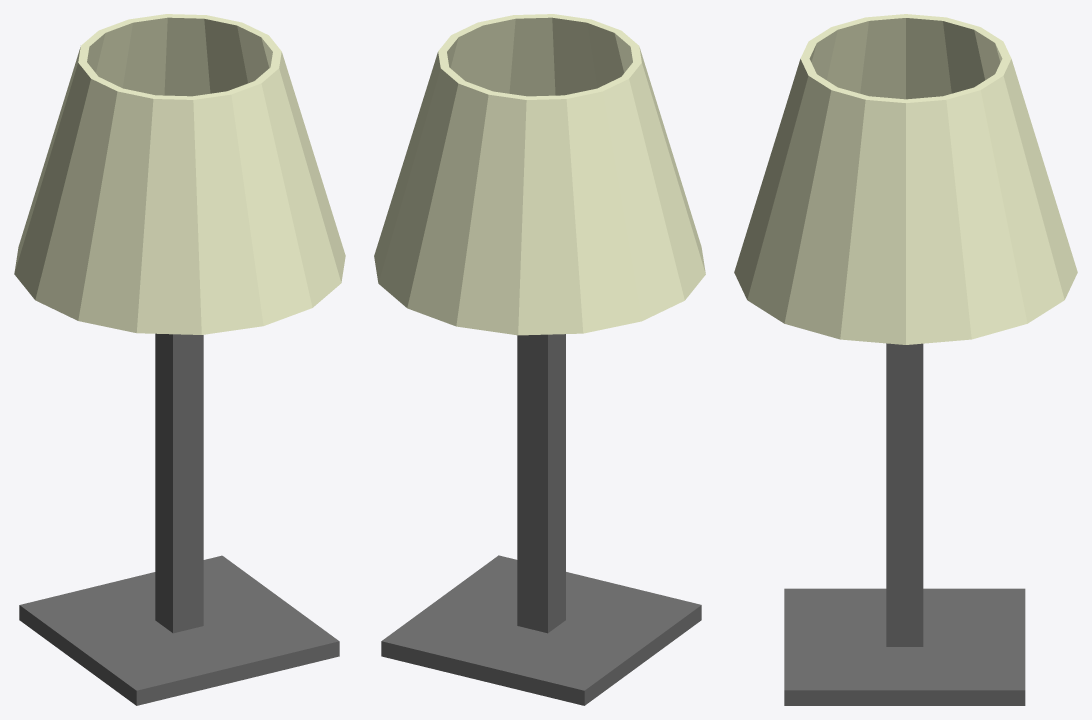
Rendered from Lampara_peq.fbx.
The picture shows the model from 3 angles, left to right: view 1: azimuth 30°, elevation 25°; view 2: azimuth 150°, elevation 25°; view 3: azimuth 270°, elevation 25°; orthographic projection. The views are drawn at different scales.
Visible parts, largest first — view 1: Lampara, Cube.003; view 2: Lampara, Cube.003; view 3: Lampara, Cube.003.
Boxes of the visible parts, x1=… form: Lampara: x1=14, y1=14, x2=345, y2=334; Cube.003: x1=19, y1=333, x2=339, y2=705; Lampara: x1=374, y1=14, x2=705, y2=335; Cube.003: x1=381, y1=334, x2=701, y2=705; Lampara: x1=734, y1=14, x2=1077, y2=344; Cube.003: x1=784, y1=343, x2=1025, y2=705.
Size of the model in its own units: 59.48 by 114 by 59.48.
